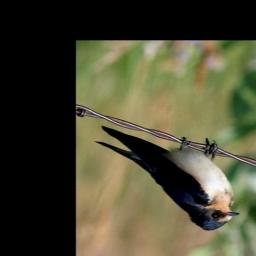Swallow: (95, 121, 242, 234)
